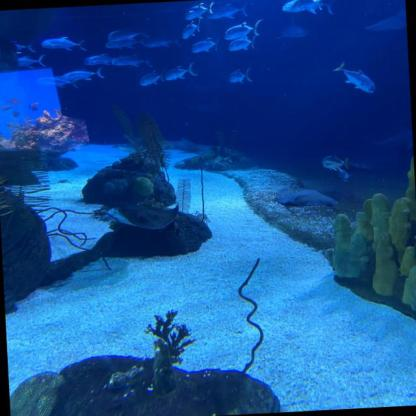fish: (332, 59, 376, 96), (281, 0, 342, 18), (224, 19, 263, 40), (40, 36, 87, 52), (61, 66, 106, 82), (206, 3, 248, 20), (36, 75, 80, 91), (107, 26, 150, 42), (112, 53, 152, 69), (164, 62, 199, 80), (321, 150, 348, 172), (144, 34, 181, 49), (228, 34, 260, 51), (106, 37, 147, 50), (289, 0, 332, 12), (191, 36, 221, 53), (181, 17, 203, 40), (139, 68, 167, 86), (184, 6, 214, 20), (84, 53, 114, 67), (228, 67, 252, 84), (17, 55, 46, 69), (10, 40, 36, 54), (170, 137, 198, 150), (335, 169, 352, 182)
shark: (362, 123, 413, 155), (363, 4, 407, 33), (272, 12, 312, 41)
stingray: (102, 202, 180, 232), (276, 184, 339, 208)
